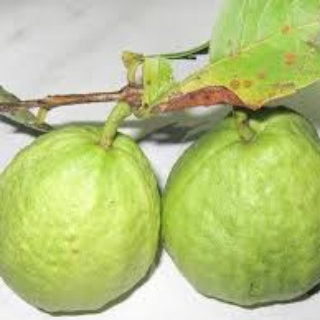oi: (160, 108, 320, 310), (1, 124, 163, 319)
